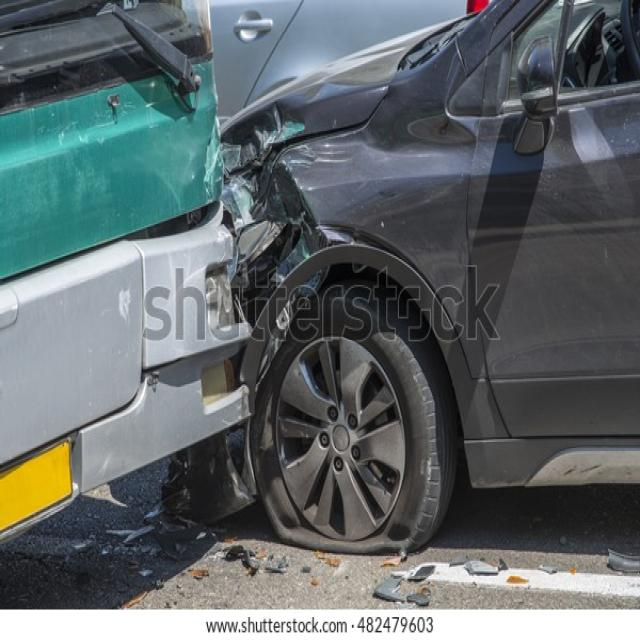Accident: (0, 4, 640, 573)
